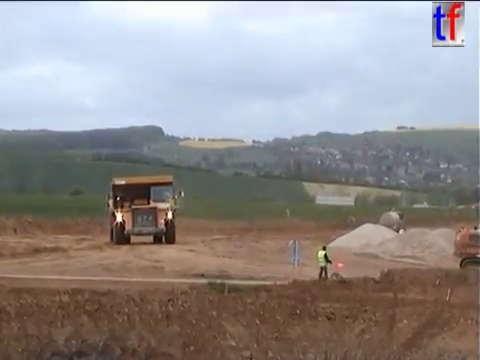excavator: (452, 224, 480, 279)
truck: (104, 173, 185, 246), (377, 207, 406, 235)
worker: (315, 244, 333, 283)
